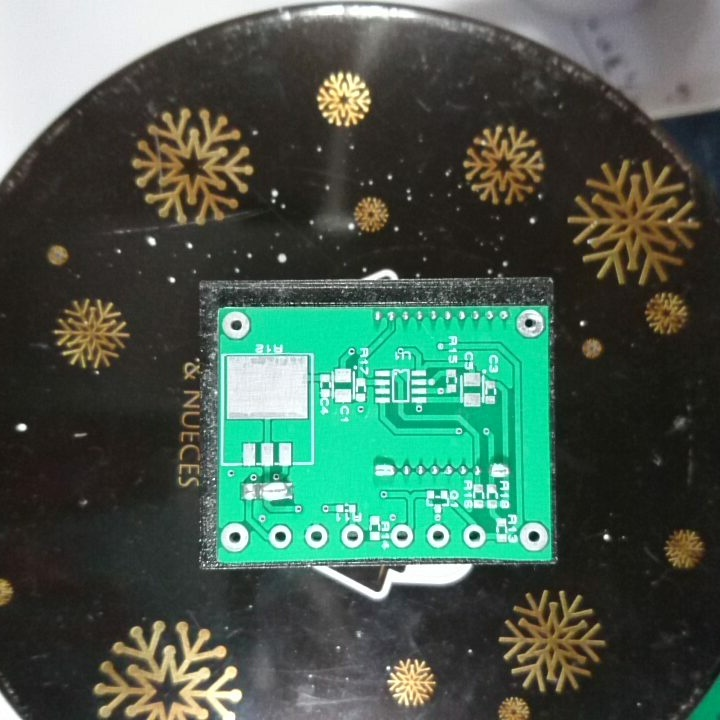F: (220, 309, 252, 343), (218, 521, 251, 552), (518, 521, 550, 552), (514, 309, 546, 339), (459, 523, 487, 551), (302, 522, 330, 549), (339, 521, 366, 549), (424, 522, 452, 549), (388, 523, 417, 549), (266, 523, 293, 550)
P: (259, 479, 296, 503), (372, 460, 397, 479), (488, 460, 511, 480)
